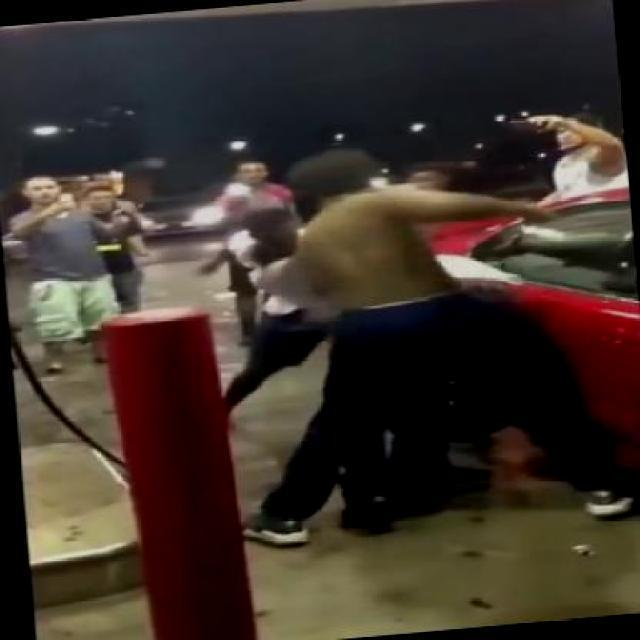fight: (188, 138, 594, 551)
non-fight: (0, 166, 155, 373)
